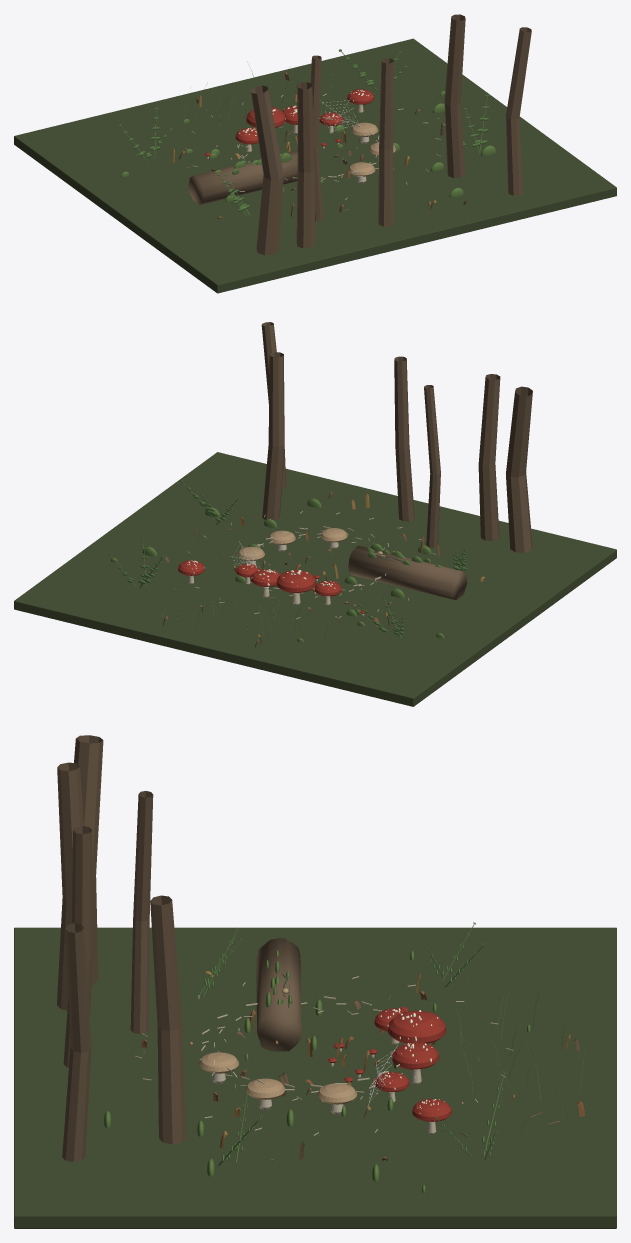
3 views of the same model, one above another, from view 1: azimuth 30°, elevation 25°; view 2: azimuth 150°, elevation 25°; view 3: azimuth 270°, elevation 25° (orthographic). The views are drawn at different scales.
Parts seen in each view (by area): view 1: Cube, trunks.004, trunks.003, trunks.005, Cylinder.003, trunks, trunks.002, trunks.001; view 2: Cube, trunks.004, Cylinder.003, trunks.003, trunks.005, trunks, trunks.001, ring.003, trunks.002; view 3: Cube, trunks.005, trunks.002, Cylinder.003, trunks.001, trunks.003, trunks.004, trunks, ring.003, ring.005, ring.029, ring.013 (+2 smaller).
Boxes of the visible parts, x1,y1,x2,y2 form: Cube: [14, 38, 616, 293]; trunks.004: [250, 85, 283, 255]; trunks.003: [296, 82, 315, 248]; trunks.005: [444, 14, 465, 177]; Cylinder.003: [188, 150, 297, 204]; trunks: [378, 58, 393, 226]; trunks.002: [506, 27, 531, 195]; trunks.001: [310, 55, 323, 221]; Cube: [14, 452, 616, 706]; trunks.004: [506, 386, 532, 552]; Cylinder.003: [348, 545, 467, 600]; trunks.003: [478, 374, 500, 540]; trunks.005: [262, 352, 284, 520]; trunks: [394, 356, 414, 521]; trunks.001: [424, 385, 440, 548]; ring.003: [276, 570, 315, 592]; trunks.002: [261, 322, 286, 488]; Cube: [14, 927, 616, 1228]; trunks.005: [150, 895, 186, 1144]; trunks.002: [62, 923, 91, 1161]; Cylinder.003: [256, 938, 301, 1051]; trunks.001: [130, 791, 153, 1033]; trunks.003: [57, 762, 83, 1010]; trunks.004: [74, 735, 103, 985]; trunks: [63, 826, 92, 1067]; ring.003: [387, 1010, 446, 1043]; ring.005: [392, 1042, 439, 1069]; ring.029: [412, 1099, 451, 1121]; ring.013: [199, 1052, 238, 1073].
Bounding box in the file's own units: 17 × 6.91 × 15.
